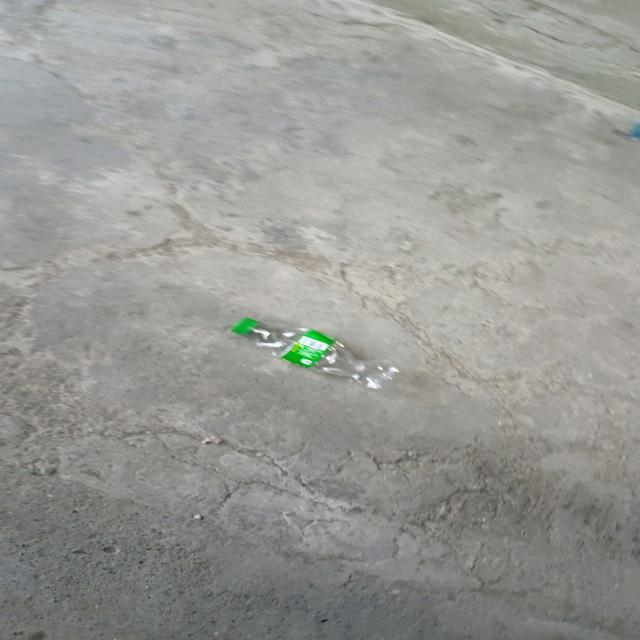Bottle: (231, 318, 399, 389)
